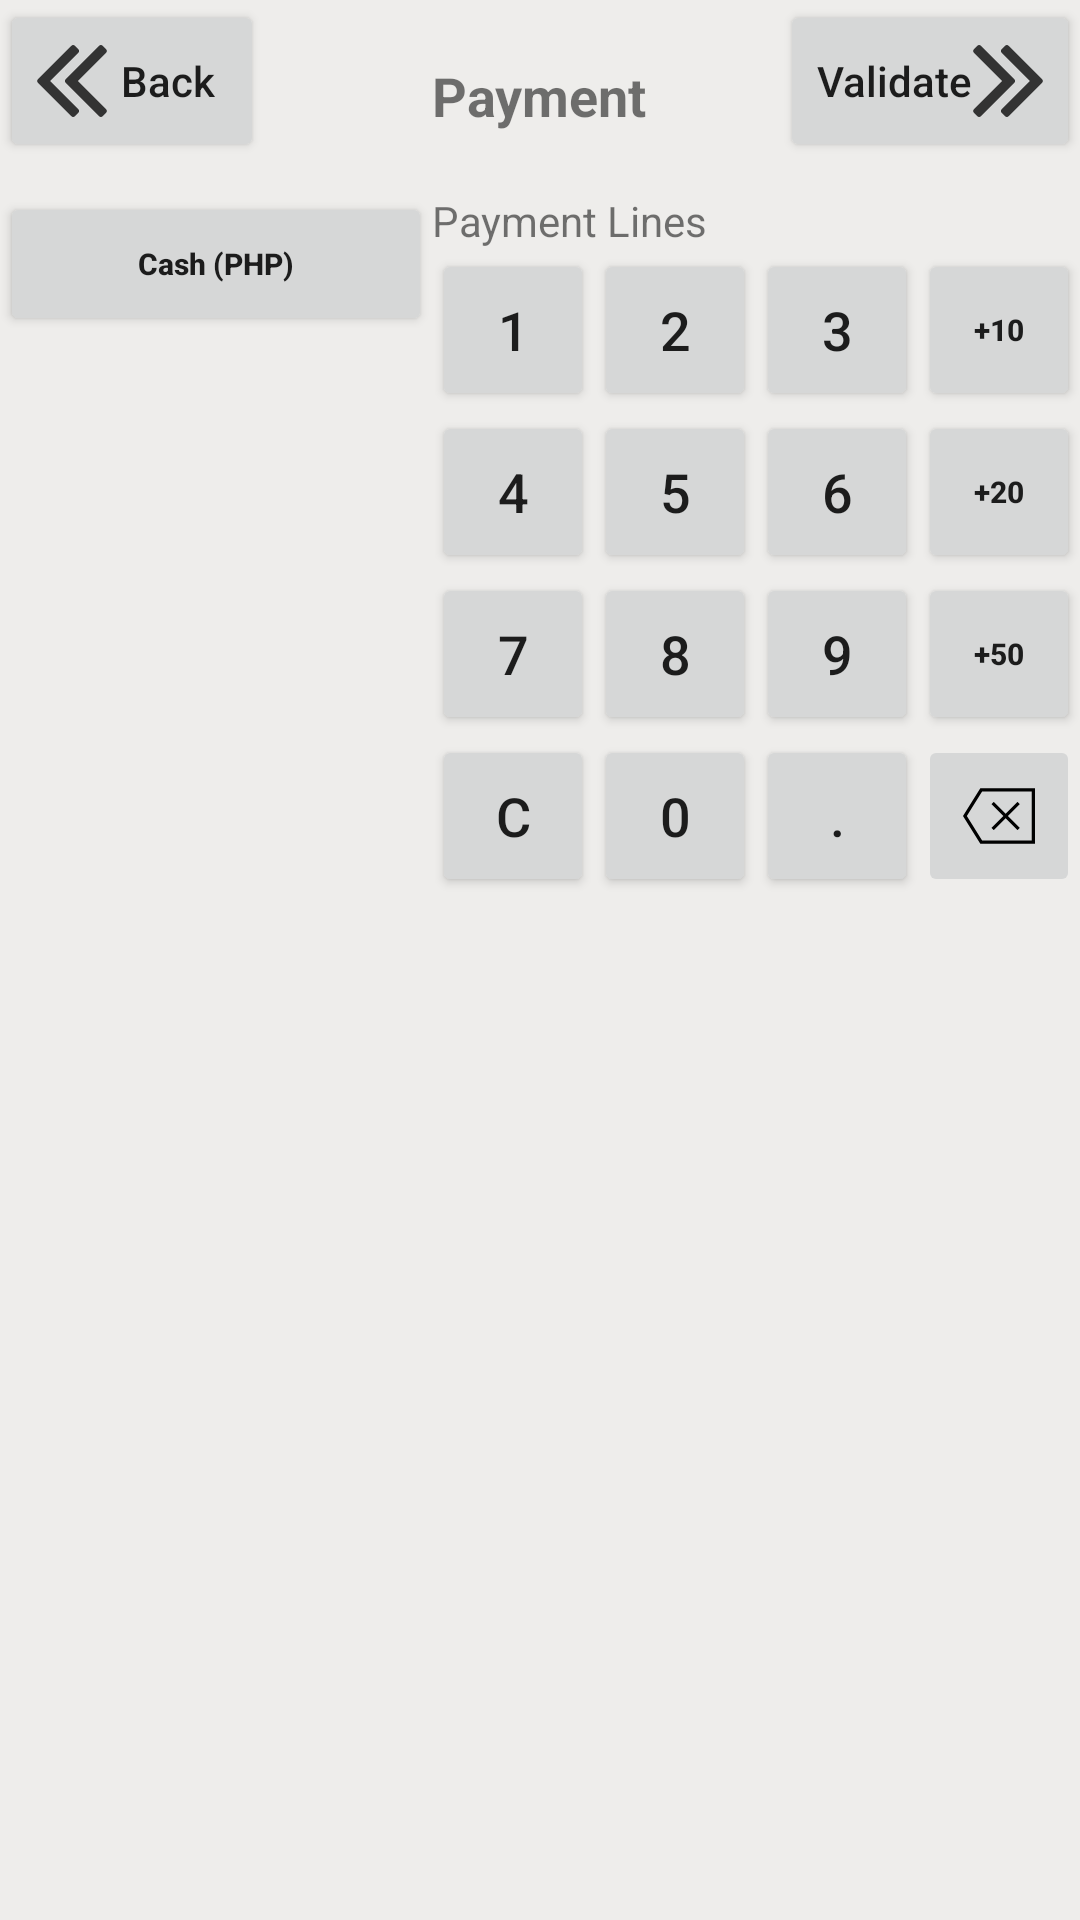

Icon click points for this 1080 x 1920 phone screenshot, format (x=x, y=y):
backspace: (x=999, y=816)
